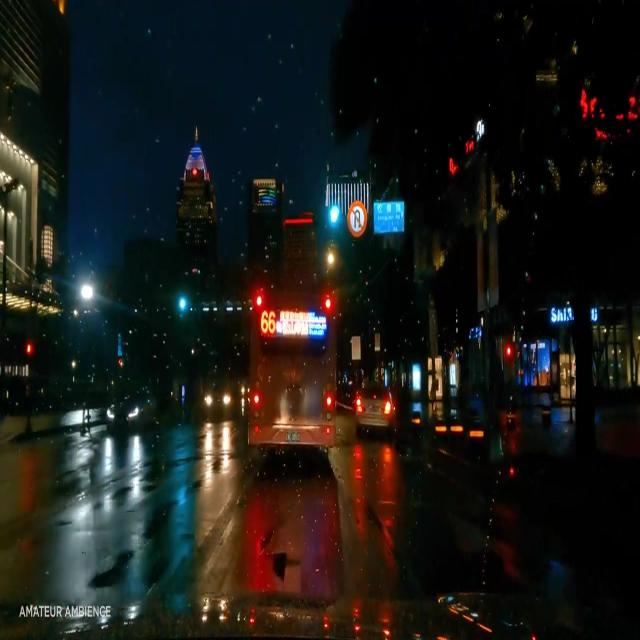Car: (354, 383, 391, 431), (202, 381, 240, 413)
